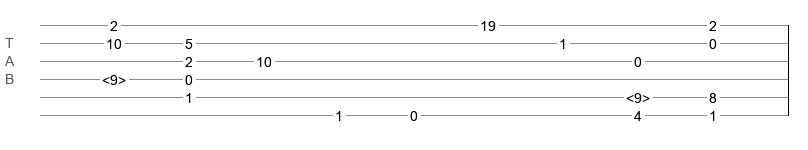0: (185, 72, 193, 82), (410, 108, 418, 118), (634, 54, 642, 64), (709, 36, 717, 46)
1: (185, 90, 193, 100), (335, 108, 343, 118), (559, 36, 567, 46), (709, 108, 717, 118)
10: (106, 36, 122, 46), (256, 54, 272, 64)
19: (480, 18, 496, 28)
2: (110, 18, 118, 28), (185, 54, 193, 64), (709, 18, 717, 28)
4: (634, 108, 642, 118)
5: (185, 36, 193, 46)
8: (709, 90, 717, 100)
harmonic: (102, 72, 126, 82), (626, 90, 650, 100)
